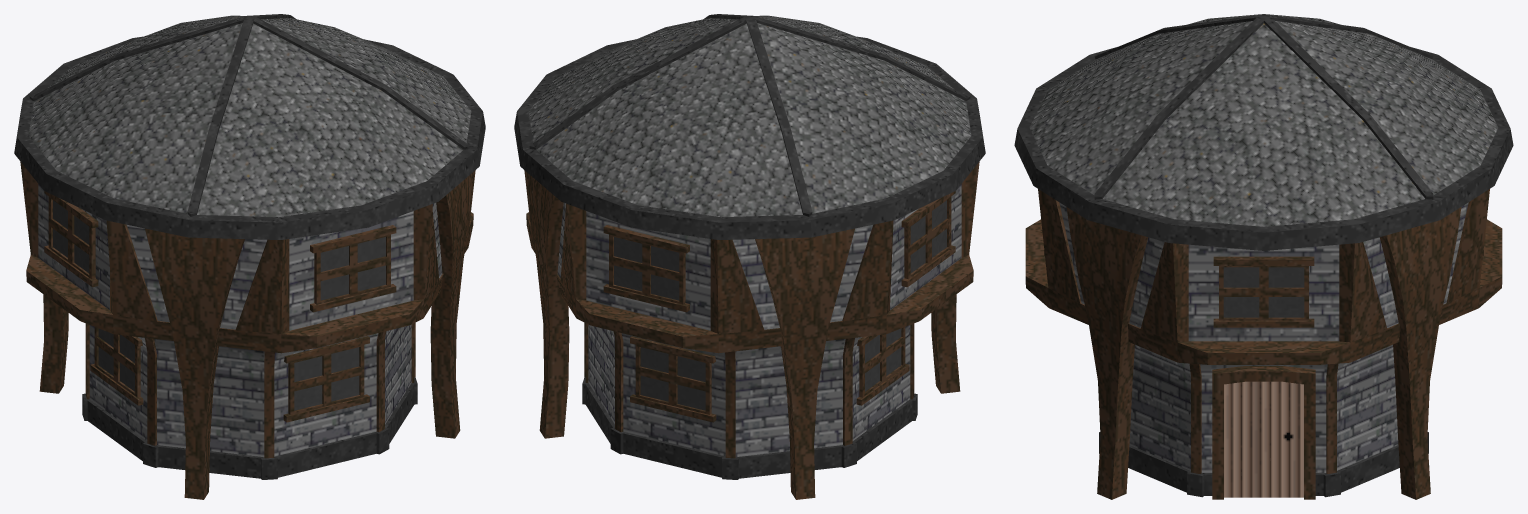
File: L1_Village_house2.fbx
3 views of the same model, side by side, from view 1: azimuth 30°, elevation 25°; view 2: azimuth 150°, elevation 25°; view 3: azimuth 270°, elevation 25° (orthographic). The views are drawn at different scales.
Parts seen in each view (by area): view 1: L1_Village_house2; view 2: L1_Village_house2; view 3: L1_Village_house2.
Part boxes in pixels (x1,y1,x2,y2): L1_Village_house2: [14, 14, 485, 499]; L1_Village_house2: [514, 14, 985, 499]; L1_Village_house2: [1014, 14, 1513, 499].
Size of the model in its own units: 632 by 576 by 632.
1 material, 1 textured.
